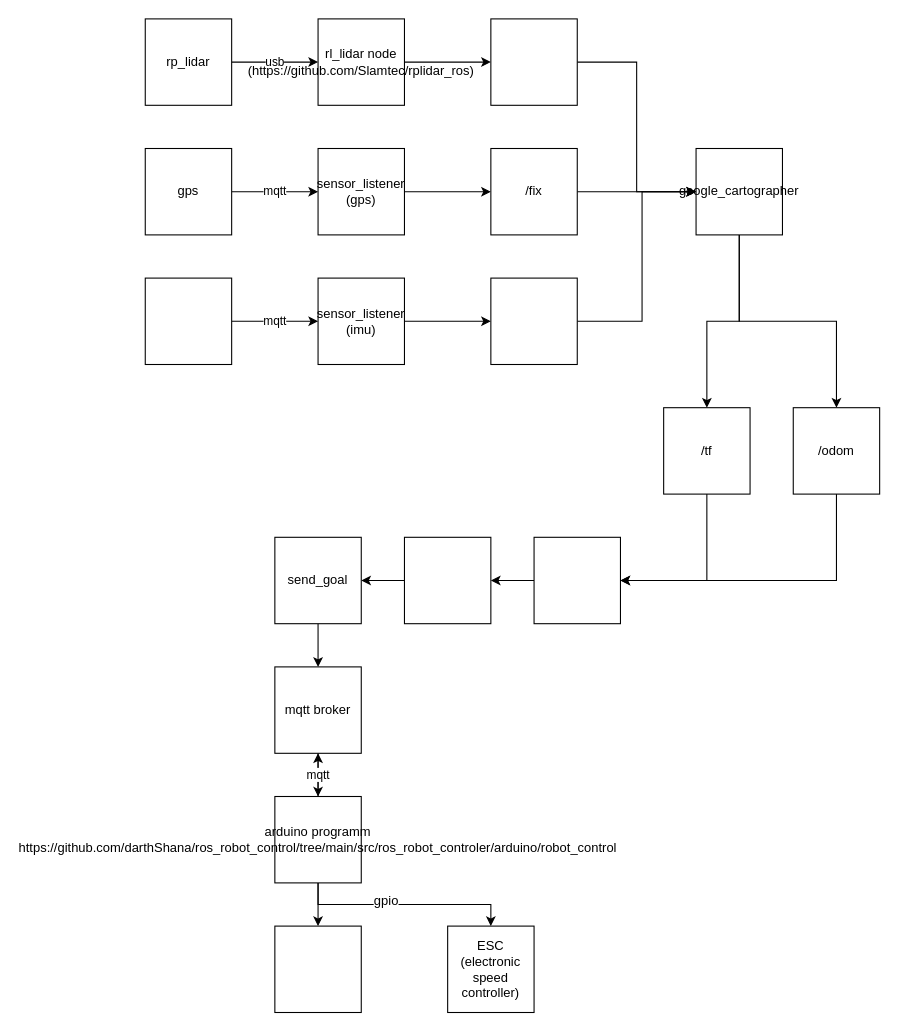
Image size: 899x1031. Some labels were removed from this diagram. Here are the shapes that lost their labels. From the top down, the centre of each, then its label:
At (x=533, y=61): "/scan".
At (x=188, y=320): "imu".
At (x=533, y=320): "/imu".
At (x=447, y=580): "/cmd_velocity".
At (x=576, y=580): "move_base (path planning)".
At (x=317, y=969): "stering servo".
